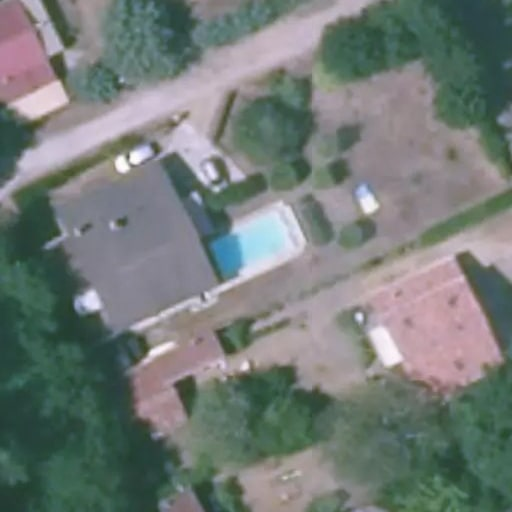pool: (209, 211, 290, 271)
